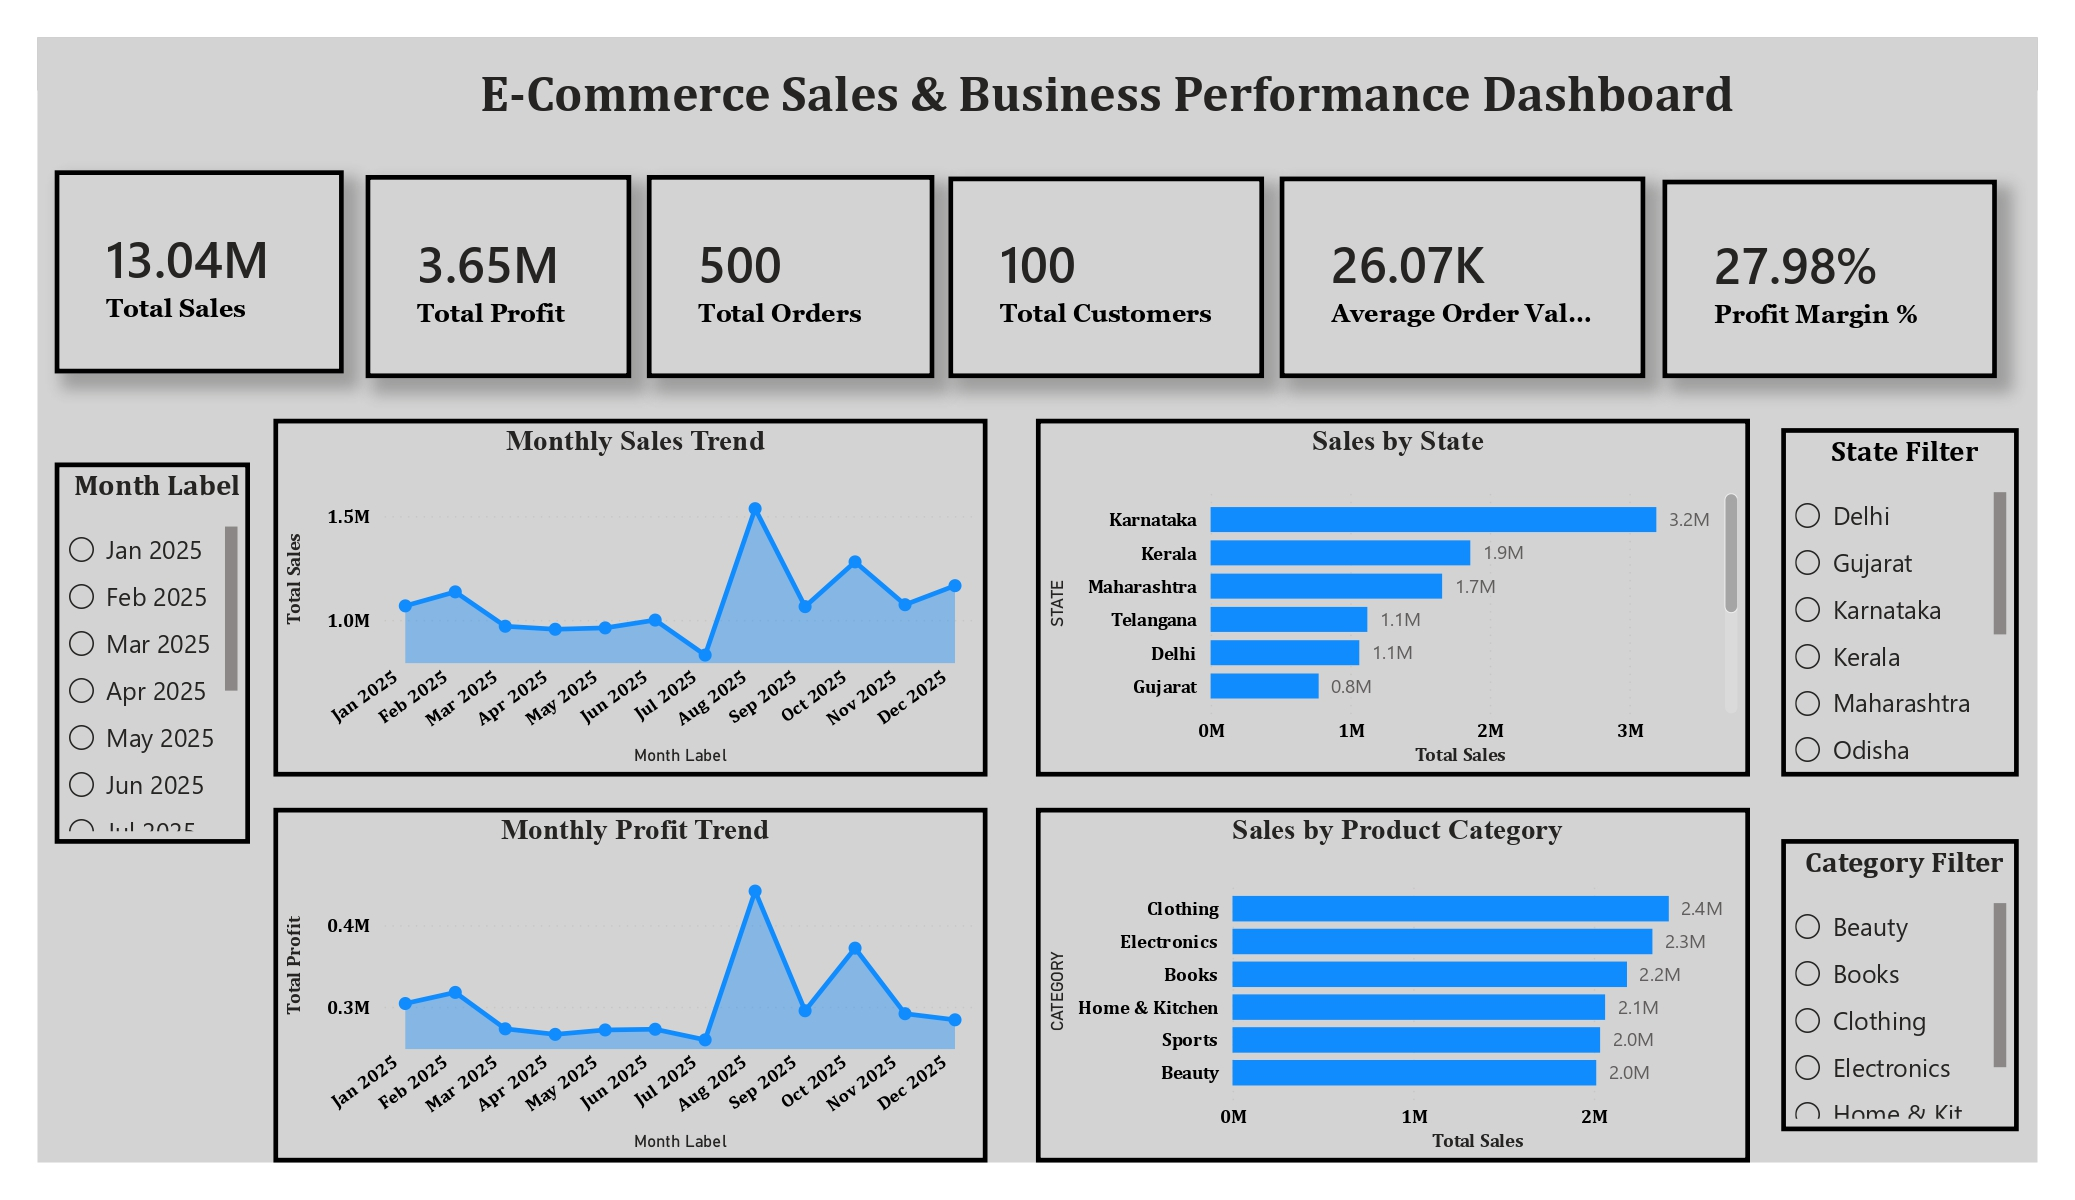

The page's visual inventory and layout, read from the dashboard file:
{"tool":"powerbi","page":{"name":"Executive Overview","canvas":[1280,720],"ordinal":0},"visuals":[{"type":"cardVisual","fields":{"Data":["customers.Total Sales"]},"box":[11,85.1,185.2,130.4],"z":0},{"type":"cardVisual","fields":{"Data":["customers.Total Profit"]},"box":[209.9,87.8,170.2,130.4],"z":1000},{"type":"cardVisual","fields":{"Data":["customers.Total Orders"]},"box":[389.7,87.8,183.9,130.4],"z":2000},{"type":"cardVisual","fields":{"Data":["customers.Total Customers"]},"box":[583.2,89.2,201.7,129],"z":3000},{"type":"cardVisual","fields":{"Data":["customers.Average Order Value"]},"box":[794.5,89.2,234.6,129],"z":4000},{"type":"cardVisual","fields":{"Data":["customers.Profit Margin %"]},"box":[1040.1,90.6,214.1,127.6],"z":5000},{"type":"lineChart","title":"Monthly Sales Trend","fields":{"Y":["customers.Total Sales"],"Category":["orders.Month Label"]},"box":[150.9,244.3,456.9,229.2],"z":6000},{"type":"lineChart","title":"Monthly Profit Trend","fields":{"Y":["customers.Total Profit"],"Category":["orders.Month Label"]},"box":[150.9,492.6,456.9,227.8],"z":7000},{"type":"clusteredBarChart","title":"Sales by State","fields":{"Category":["customers.STATE"],"Y":["customers.Total Sales"]},"box":[639.5,244.3,456.9,229.2],"z":8000},{"type":"clusteredBarChart","title":"Sales by Product Category","fields":{"Category":["products.CATEGORY"],"Y":["customers.Total Sales"]},"box":[639.5,492.6,456.9,227.8],"z":9000},{"type":"listSlicer","title":"State Filter","fields":{"Values":["customers.STATE"]},"box":[1115.6,249.7,152.3,223.7],"z":10000},{"type":"listSlicer","title":"Category Filter","fields":{"Values":["products.CATEGORY"]},"box":[1115.6,513.2,152.3,186.6],"z":11000},{"type":"listSlicer","fields":{"Values":["orders.Month Label"]},"box":[11,271.7,124.9,244.3],"z":12000},{"type":"textbox","box":[196.2,12.3,977,60.4],"z":14000}]}

Visuals, with their boxes in screenshot pixels (x1, y1, x2, y2):
cardVisual - customers.Total Sales: box=[66, 169, 351, 370]
cardVisual - customers.Total Profit: box=[372, 173, 635, 374]
cardVisual - customers.Total Orders: box=[650, 173, 933, 374]
cardVisual - customers.Total Customers: box=[948, 175, 1259, 374]
cardVisual - customers.Average Order Value: box=[1274, 175, 1636, 374]
cardVisual - customers.Profit Margin %: box=[1652, 178, 1983, 374]
"Monthly Sales Trend" lineChart: box=[281, 415, 986, 768]
"Monthly Profit Trend" lineChart: box=[281, 797, 986, 1149]
"Sales by State" clusteredBarChart: box=[1035, 415, 1739, 768]
"Sales by Product Category" clusteredBarChart: box=[1035, 797, 1739, 1149]
"State Filter" listSlicer: box=[1769, 423, 2004, 768]
"Category Filter" listSlicer: box=[1769, 829, 2004, 1117]
listSlicer - orders.Month Label: box=[66, 457, 258, 834]
textbox: box=[351, 57, 1858, 150]
